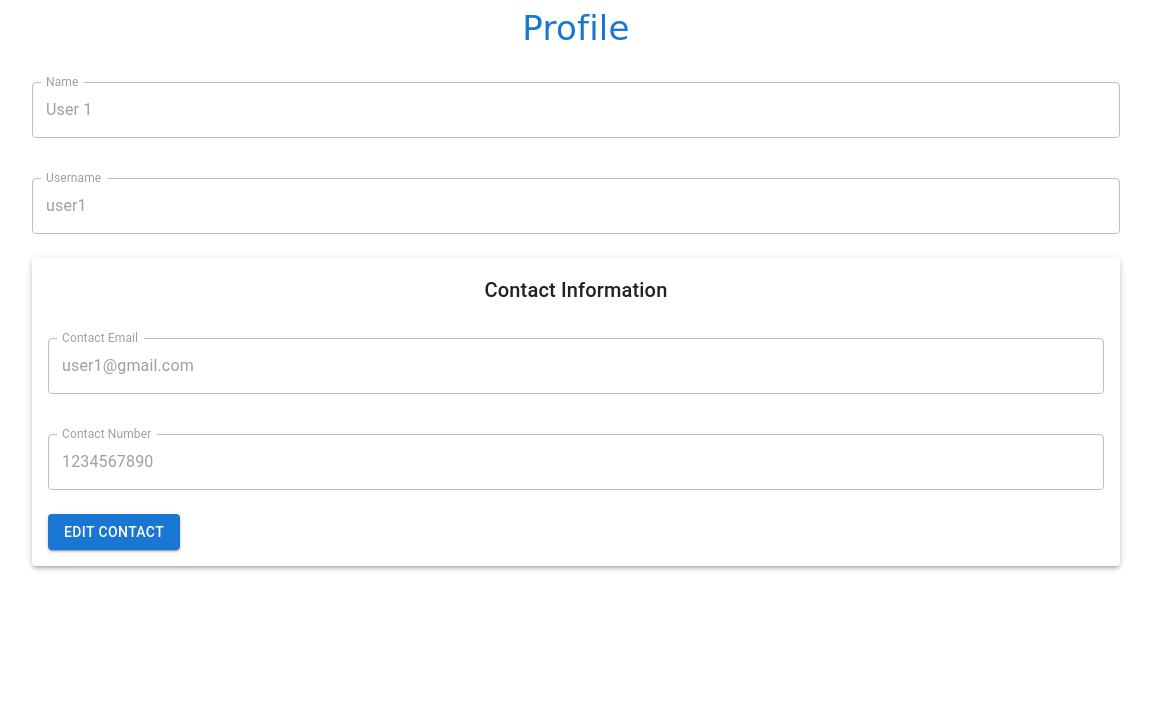
Test: Profile Component › disables contact email and number fields after clicking cancel
Click the button with test id "edit-button".
click(114, 533)  # box x1=48 y1=514 x2=180 y2=551
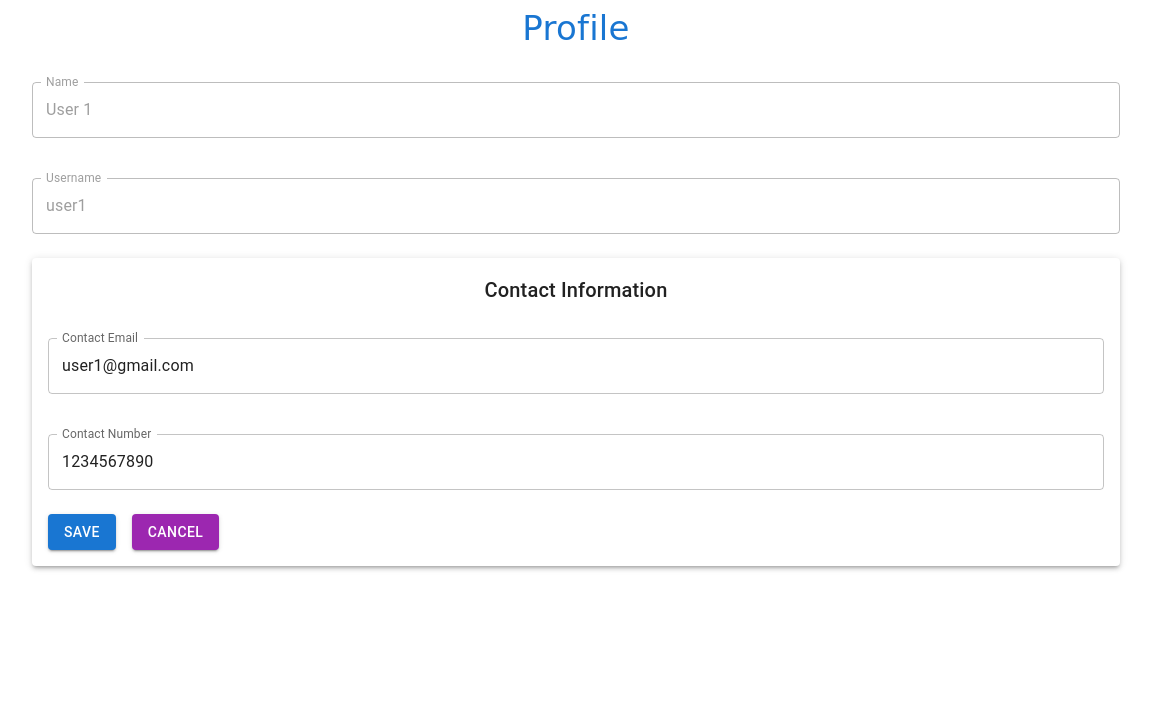
Click the button with test id "cancel-button".
click(176, 533)  # box x1=132 y1=514 x2=220 y2=551
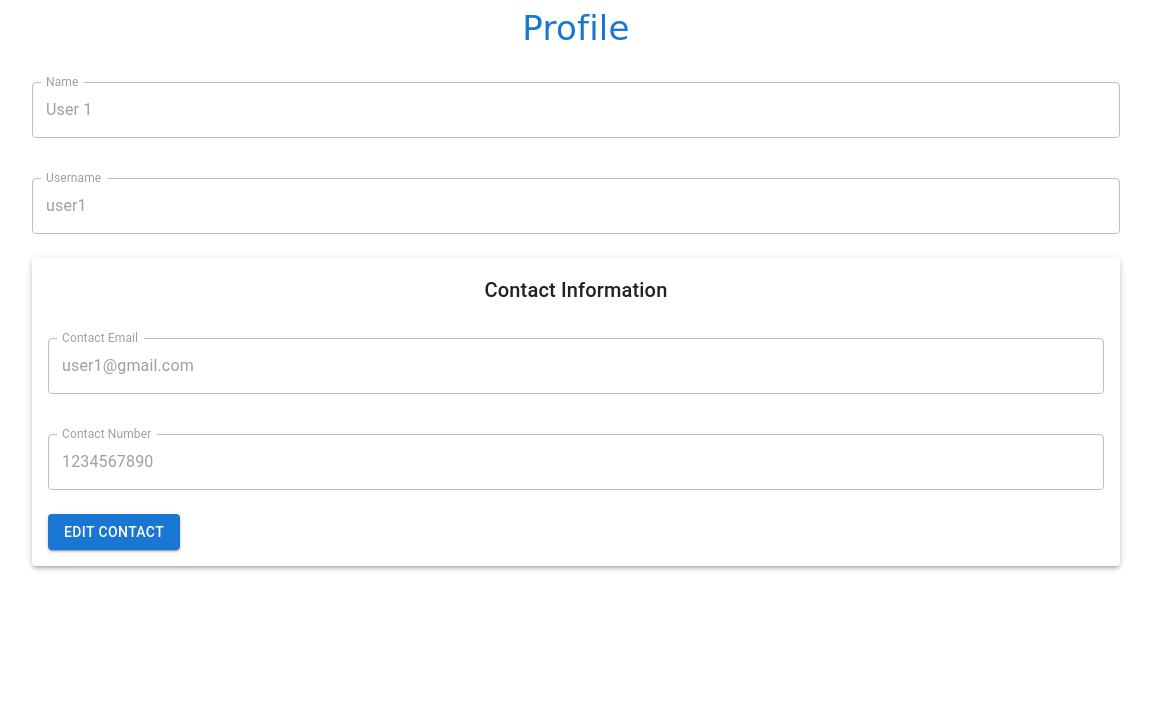
Expected: the field labelled "Contact Email" is disabled, x1=48 y1=338 x2=1104 y2=394
Expected: the field labelled "Contact Number" is disabled, x1=48 y1=434 x2=1104 y2=490
